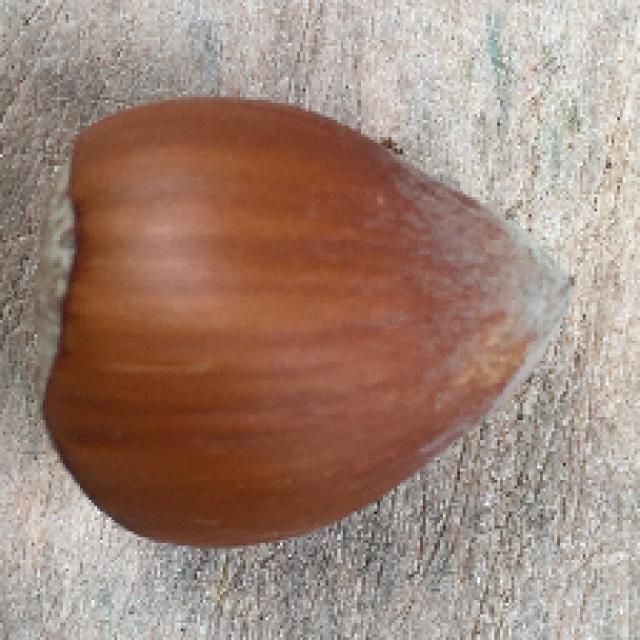hazelnut: (32, 87, 578, 557)
